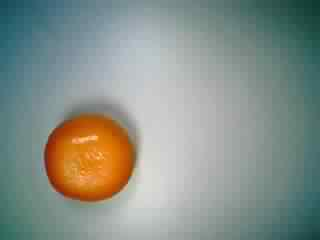orange: (38, 105, 136, 203)
